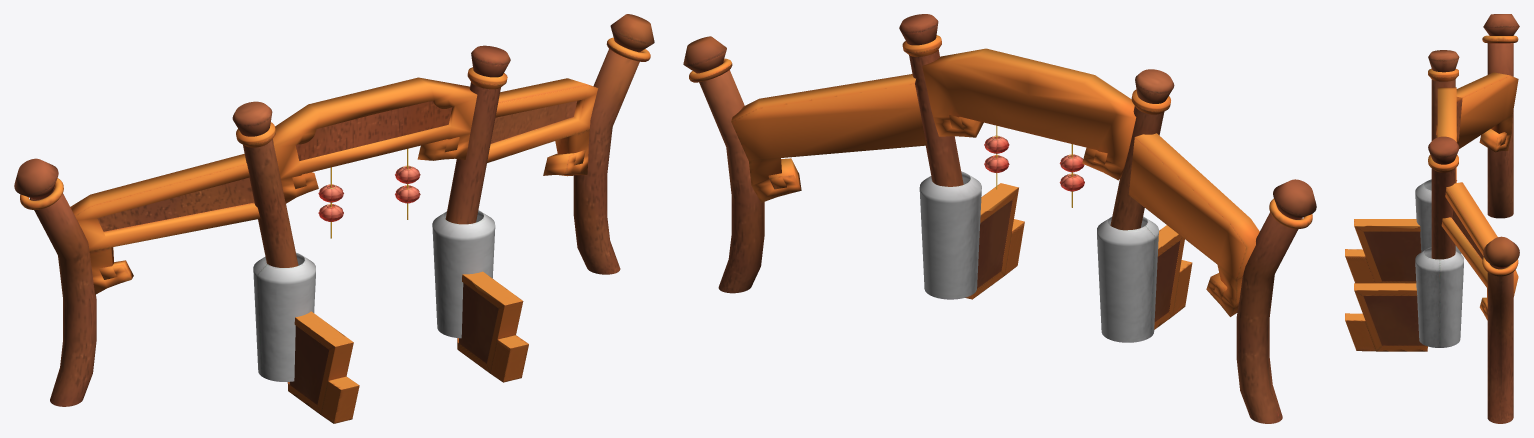
Rendered from Small Gate.fbx.
The picture shows the model from 3 angles, left to right: view 1: azimuth 30°, elevation 25°; view 2: azimuth 150°, elevation 25°; view 3: azimuth 270°, elevation 25°; orthographic projection. The views are drawn at different scales.
Visible parts, largest first — view 1: Cube.001; view 2: Cube.001; view 3: Cube.001.
Boxes of the visible parts, x1,y1,x2,y2 form: Cube.001: [14, 14, 654, 423]; Cube.001: [683, 14, 1316, 423]; Cube.001: [1345, 14, 1519, 423].
Size of the model in its own units: 7652 by 3271 by 2352.
1 material, 1 textured.
